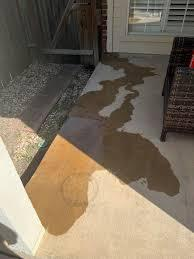water accumulation: (17, 50, 178, 235)
